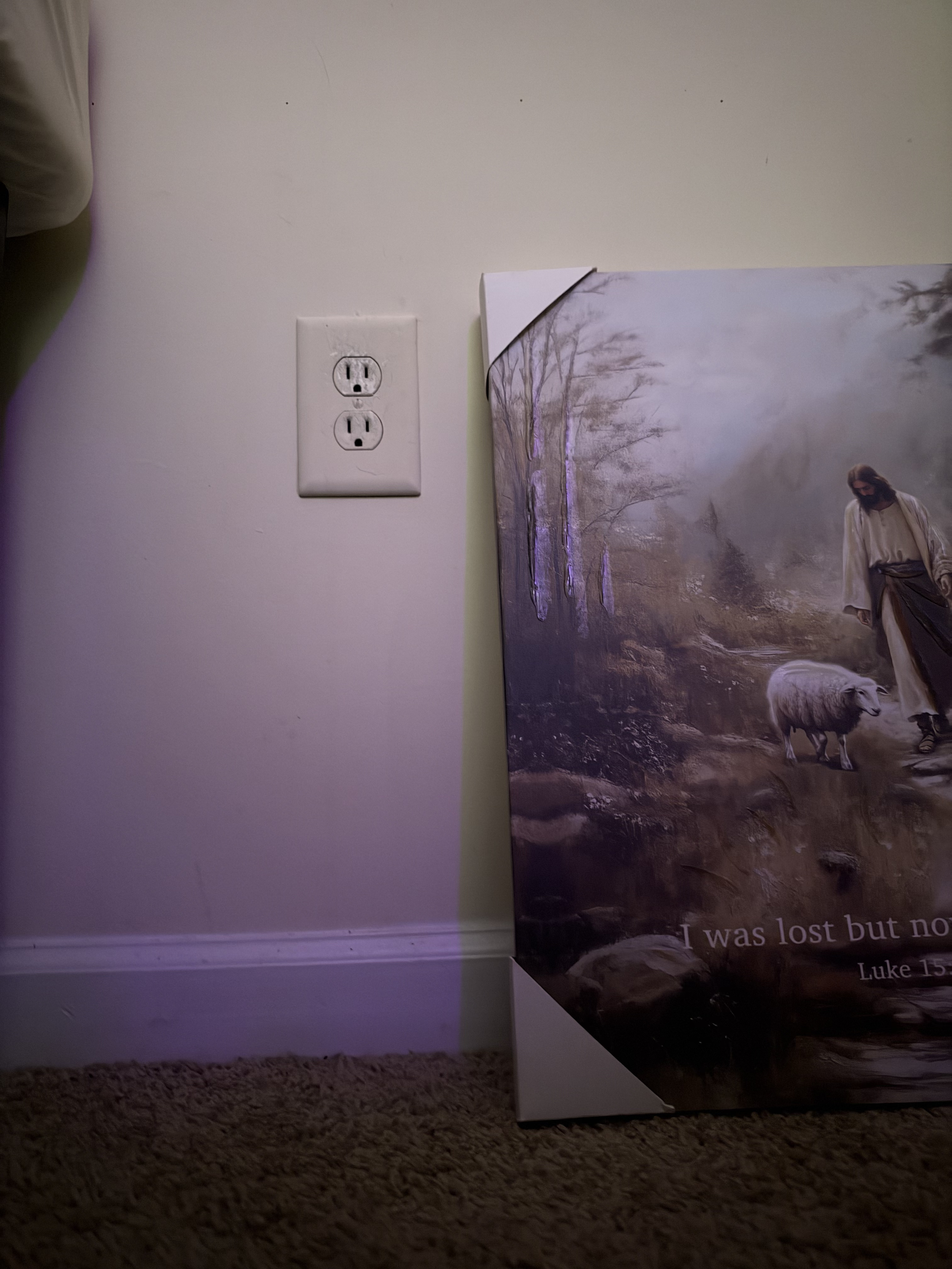outlet: (298, 316, 418, 494)
